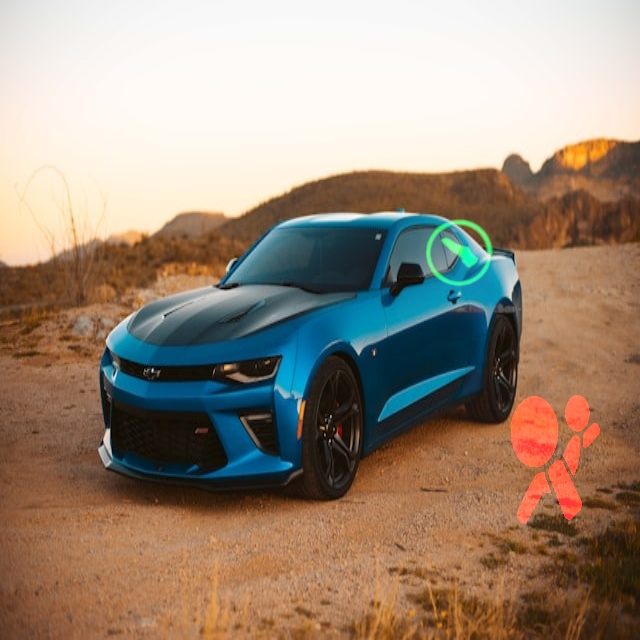symbol: (463, 369, 636, 542), (397, 189, 527, 319)
